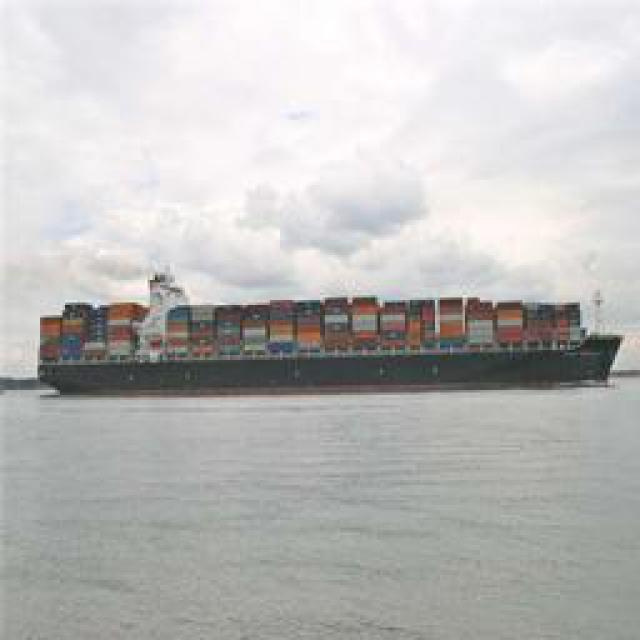Ship: (20, 253, 629, 406)
